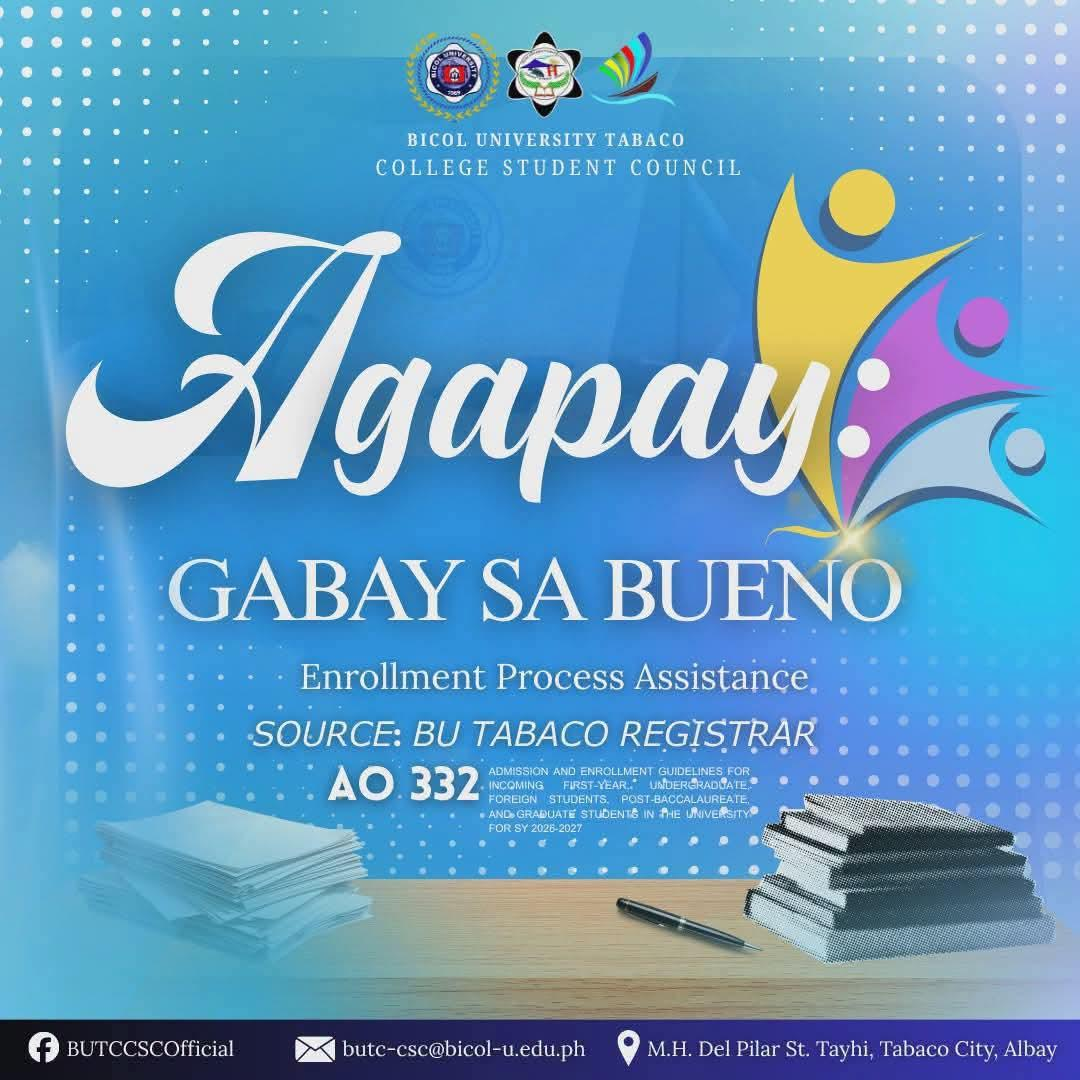embellishment: (283, 1034, 344, 1066), (613, 1026, 647, 1080), (29, 1027, 61, 1069)
logo: (397, 21, 502, 125), (499, 25, 591, 122), (590, 26, 681, 115)
text: (53, 216, 907, 532), (149, 540, 915, 641), (248, 648, 823, 757), (369, 123, 749, 186), (484, 754, 756, 834), (647, 1030, 1066, 1073), (343, 1031, 596, 1070), (320, 755, 482, 810), (61, 1030, 239, 1071)
underlay: (0, 1018, 1080, 1080)
